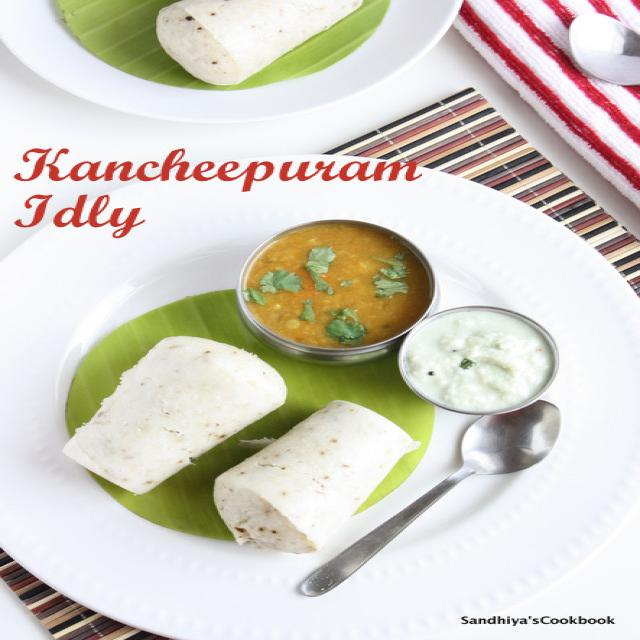IDLI: (65, 336, 286, 494), (214, 401, 419, 552)
